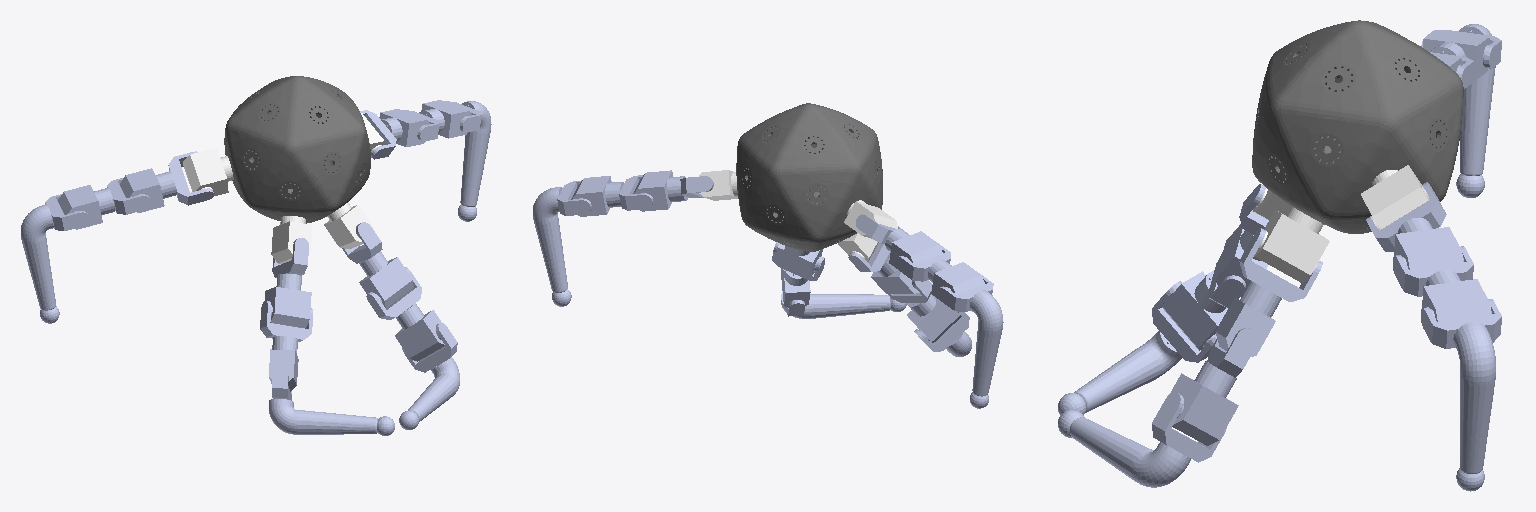
URDF robot description (mod_test):
<?xml version="1.0" encoding="utf-8"?>
<robot
  name="mod_test">
  <link
    name="base_link">
    <inertial>
      <origin
        xyz="-1.5226495220944E-06 1.5812928362389E-07 -5.05247252856584E-07"
        rpy="0 0 0" />
      <mass
        value="0.422806992949252" />
      <inertia
        ixx="0.00237499139253511"
        ixy="1.5717831530364E-08"
        ixz="1.49286265366169E-08"
        iyy="0.00237502154661776"
        iyz="-2.02154172619351E-08"
        izz="0.00237502595466009" />
    </inertial>
    <visual>
      <origin
        xyz="0 0 0"
        rpy="0 0 0" />
      <geometry>
        <mesh
          filename="package://meshes/base_link.STL" />
      </geometry>
      <material
        name="">
        <color
          rgba="0.498039215686275 0.498039215686275 0.498039215686275 1" />
      </material>
    </visual>
    <collision>
      <origin
        xyz="0 0 0"
        rpy="0 0 0" />
      <geometry>
        <mesh
          filename="package://meshes/base_link.STL" />
      </geometry>
    </collision>
  </link>
  <link
   name="150">
   <inertial>
      <origin
        xyz="0 0 0.028508"
        rpy="0 0 0" />
      <mass
        value="0.076173" />
      <inertia
        ixx="3.054E-05"
        ixy="-0.000000"
        ixz="-0.000000"
        iyy="2.1077E-05"
        iyz="-0.000000"
        izz="2.1165E-05" />
    </inertial>
    <visual>
      <origin
        xyz="0 0 0"
        rpy="0 0 0" />
      <geometry>
        <mesh
          filename="package://meshes/1.STL" />
      </geometry>
      <material
        name="">
        <color
          rgba="1 1 1 1" />
      </material>
    </visual>
    <collision>
      <origin
        xyz="0 0 0"
        rpy="0 0 0" />
      <geometry>
        <mesh
          filename="package://meshes/1.STL" />
      </geometry>
    </collision>
  </link>
  <joint
    name="body_150"
    type="fixed">
    <origin
        xyz="0.031905 -0.043913 -0.071046"
        rpy="-2.557073 0.308415 -2.943404" />
    <parent
      link="base_link" />
    <child
      link="150" />
    <axis
      xyz="0 0 0" />
  </joint>
  <link
    name="151">
    <inertial>
      <origin
        xyz="0.060018 -1.4108E-06 1.4108E-06"
        rpy="0 0 0" />
    <mass
        value="0.10689" />
      <inertia
        ixx="3.2684e-05"
        ixy="-2.5662e-09"
        ixz="2.5662e-09"
        iyy="8.4132e-05"
        iyz="-2.1275e-13"
        izz="8.4583e-05" />
    </inertial>
    <visual>
      <origin
        xyz="0 0 0"
        rpy="0 0 0" />
      <geometry>
        <mesh
          filename="package://meshes/module3.STL" />
      </geometry>
      <material
        name="">
        <color
          rgba="0.79216 0.81961 0.93333 1" />
      </material>
    </visual>
    <collision>
      <origin
        xyz="0 0 0"
        rpy="0 0 0" />
      <geometry>
        <mesh
          filename="package://meshes/module3.STL" />
      </geometry>
    </collision>
  </link>
  <joint
    name="150_151"
    type="revolute">
    <origin
      xyz="0 0 0.04"
      rpy="-1.558 -1.5708 -0.012835" />
    <parent
      link="150" />
    <child
      link="151" />
    <axis
      xyz="0 0 1" />
    <limit
      lower="-6.28"
      upper="6.28"
      effort="10"
      velocity="100" />
  </joint>
  <link
    name="152">
    <inertial>
      <origin
        xyz="0.060018 -1.4108E-06 1.4108E-06"
        rpy="0 0 0" />
    <mass
        value="0.10689" />
      <inertia
        ixx="3.2684e-05"
        ixy="-2.5662e-09"
        ixz="2.5662e-09"
        iyy="8.6498e-05"
        iyz="4.0975e-06"
        izz="8.2217e-05" />
    </inertial>
    <visual>
      <origin
        xyz="0 0 0"
        rpy="0 0 0" />
      <geometry>
        <mesh
          filename="package://meshes/module2.STL" />
      </geometry>
      <material
        name="">
        <color
          rgba="0.79216 0.81961 0.93333 1" />
      </material>
    </visual>
    <collision>
      <origin
        xyz="0 0 0"
        rpy="0 0 0" />
      <geometry>
        <mesh
          filename="package://meshes/module2.STL" />
      </geometry>
    </collision>
  </link>
  <joint
    name="151_152"
    type="revolute">
    <origin
      xyz="0.0816 0 0"
      rpy="1.570796 0 0" />
    <parent
      link="151" />
    <child
      link="152" />
    <axis
      xyz="0 0 1" />
    <limit
      lower="-6.28"
      upper="6.28"
      effort="10"
      velocity="100" />
  </joint>
  <link
    name="153">
    <inertial>
      <origin
        xyz="0.051733 -0.042281 -1.3878E-17"
        rpy="0 0 0" />
    <mass
        value="0.12059" />
      <inertia
        ixx="0.00025425"
        ixy="4.8319E-05"
        ixz="0"
        iyy="5.0194E-05"
        iyz="-3.3141E-21"
        izz="0.00027482" />
    </inertial>
    <visual>
      <origin
        xyz="0 0 0"
        rpy="0 0 0" />
      <geometry>
        <mesh
          filename="package://meshes/leg.STL" />
      </geometry>
      <material
        name="">
        <color
          rgba="0.79216 0.81961 0.93333 1" />
      </material>
    </visual>
    <collision>
      <origin
        xyz="0 0 0"
        rpy="0 0 0" />
      <geometry>
        <mesh
          filename="package://meshes/leg.STL" />
      </geometry>
    </collision>
  </link>
  <joint
    name="152_153"
    type="revolute">
    <origin
      xyz="0.0816 0 0"
      rpy="1.047198 0 0" />
    <parent
      link="152" />
    <child
      link="153" />
    <axis
      xyz="0 0 1" />
    <limit
      lower="-6.28"
      upper="6.28"
      effort="10"
      velocity="100" />
  </joint>
  <link
   name="110">
   <inertial>
      <origin
        xyz="0 0 0.028508"
        rpy="0 0 0" />
      <mass
        value="0.076173" />
      <inertia
        ixx="3.054E-05"
        ixy="0.000000"
        ixz="0.000000"
        iyy="2.1077E-05"
        iyz="0.000021"
        izz="2.1165E-05" />
    </inertial>
    <visual>
      <origin
        xyz="0 0 0"
        rpy="0 0 0" />
      <geometry>
        <mesh
          filename="package://meshes/1.STL" />
      </geometry>
      <material
        name="">
        <color
          rgba="1 1 1 1" />
      </material>
    </visual>
    <collision>
      <origin
        xyz="0 0 0"
        rpy="0 0 0" />
      <geometry>
        <mesh
          filename="package://meshes/1.STL" />
      </geometry>
    </collision>
  </link>
  <joint
    name="body_110"
    type="fixed">
    <origin
        xyz="0.083523 0.027138 -0.016769"
        rpy="-1.935587 -1.017234 -0.942540" />
    <parent
      link="base_link" />
    <child
      link="110" />
    <axis
      xyz="0 0 0" />
  </joint>
  <link
    name="111">
    <inertial>
      <origin
        xyz="0.060018 -1.4108E-06 1.4108E-06"
        rpy="0 0 0" />
    <mass
        value="0.10689" />
      <inertia
        ixx="3.2684e-05"
        ixy="-2.5662e-09"
        ixz="2.5662e-09"
        iyy="9.1229e-05"
        iyz="-4.0975e-06"
        izz="7.7485e-05" />
    </inertial>
    <visual>
      <origin
        xyz="0 0 0"
        rpy="0 0 0" />
      <geometry>
        <mesh
          filename="package://meshes/module11.STL" />
      </geometry>
      <material
        name="">
        <color
          rgba="0.79216 0.81961 0.93333 1" />
      </material>
    </visual>
    <collision>
      <origin
        xyz="0 0 0"
        rpy="0 0 0" />
      <geometry>
        <mesh
          filename="package://meshes/module11.STL" />
      </geometry>
    </collision>
  </link>
  <joint
    name="110_111"
    type="revolute">
    <origin
      xyz="0 0 0.04"
      rpy="-1.558 -1.5708 -0.012835" />
    <parent
      link="110" />
    <child
      link="111" />
    <axis
      xyz="0 0 1" />
    <limit
      lower="-6.28"
      upper="6.28"
      effort="10"
      velocity="100" />
  </joint>
  <link
    name="112">
    <inertial>
      <origin
        xyz="0.060018 -1.4108E-06 1.4108E-06"
        rpy="0 0 0" />
    <mass
        value="0.10689" />
      <inertia
        ixx="3.2684e-05"
        ixy="-2.5662e-09"
        ixz="2.5662e-09"
        iyy="9.3595e-05"
        iyz="-2.1275e-13"
        izz="7.512e-05" />
    </inertial>
    <visual>
      <origin
        xyz="0 0 0"
        rpy="0 0 0" />
      <geometry>
        <mesh
          filename="package://meshes/module0.STL" />
      </geometry>
      <material
        name="">
        <color
          rgba="0.79216 0.81961 0.93333 1" />
      </material>
    </visual>
    <collision>
      <origin
        xyz="0 0 0"
        rpy="0 0 0" />
      <geometry>
        <mesh
          filename="package://meshes/module0.STL" />
      </geometry>
    </collision>
  </link>
  <joint
    name="111_112"
    type="revolute">
    <origin
      xyz="0.0816 0 0"
      rpy="5.759587 0 0" />
    <parent
      link="111" />
    <child
      link="112" />
    <axis
      xyz="0 0 1" />
    <limit
      lower="-6.28"
      upper="6.28"
      effort="10"
      velocity="100" />
  </joint>
  <link
    name="113">
    <inertial>
      <origin
        xyz="0.051733 -0.042281 -1.3878E-17"
        rpy="0 0 0" />
    <mass
        value="0.12059" />
      <inertia
        ixx="0.00025425"
        ixy="4.8319E-05"
        ixz="0"
        iyy="5.0194E-05"
        iyz="-3.3141E-21"
        izz="0.00027482" />
    </inertial>
    <visual>
      <origin
        xyz="0 0 0"
        rpy="0 0 0" />
      <geometry>
        <mesh
          filename="package://meshes/leg.STL" />
      </geometry>
      <material
        name="">
        <color
          rgba="0.79216 0.81961 0.93333 1" />
      </material>
    </visual>
    <collision>
      <origin
        xyz="0 0 0"
        rpy="0 0 0" />
      <geometry>
        <mesh
          filename="package://meshes/leg.STL" />
      </geometry>
    </collision>
  </link>
  <joint
    name="112_113"
    type="revolute">
    <origin
      xyz="0.0816 0 0"
      rpy="0.000000 0 0" />
    <parent
      link="112" />
    <child
      link="113" />
    <axis
      xyz="0 0 1" />
    <limit
      lower="-6.28"
      upper="6.28"
      effort="10"
      velocity="100" />
  </joint>
  <link
   name="130">
   <inertial>
      <origin
        xyz="0 0 0.028508"
        rpy="0 0 0" />
      <mass
        value="0.076173" />
      <inertia
        ixx="3.054E-05"
        ixy="0.000000"
        ixz="-0.000000"
        iyy="2.1077E-05"
        iyz="-0.000000"
        izz="2.1165E-05" />
    </inertial>
    <visual>
      <origin
        xyz="0 0 0"
        rpy="0 0 0" />
      <geometry>
        <mesh
          filename="package://meshes/1.STL" />
      </geometry>
      <material
        name="">
        <color
          rgba="1 1 1 1" />
      </material>
    </visual>
    <collision>
      <origin
        xyz="0 0 0"
        rpy="0 0 0" />
      <geometry>
        <mesh
          filename="package://meshes/1.STL" />
      </geometry>
    </collision>
  </link>
  <joint
    name="body_130"
    type="fixed">
    <origin
        xyz="-0.083523 0.027138 -0.016769"
        rpy="1.935587 -1.017234 -2.199053" />
    <parent
      link="base_link" />
    <child
      link="130" />
    <axis
      xyz="0 0 0" />
  </joint>
  <link
    name="131">
    <inertial>
      <origin
        xyz="0.060018 -1.4108E-06 1.4108E-06"
        rpy="0 0 0" />
    <mass
        value="0.10689" />
      <inertia
        ixx="3.2684e-05"
        ixy="-2.5662e-09"
        ixz="2.5662e-09"
        iyy="9.1229e-05"
        iyz="4.0975e-06"
        izz="7.7485e-05" />
    </inertial>
    <visual>
      <origin
        xyz="0 0 0"
        rpy="0 0 0" />
      <geometry>
        <mesh
          filename="package://meshes/module1.STL" />
      </geometry>
      <material
        name="">
        <color
          rgba="0.79216 0.81961 0.93333 1" />
      </material>
    </visual>
    <collision>
      <origin
        xyz="0 0 0"
        rpy="0 0 0" />
      <geometry>
        <mesh
          filename="package://meshes/module1.STL" />
      </geometry>
    </collision>
  </link>
  <joint
    name="130_131"
    type="revolute">
    <origin
      xyz="0 0 0.04"
      rpy="-1.558 -1.5708 -0.012835" />
    <parent
      link="130" />
    <child
      link="131" />
    <axis
      xyz="0 0 1" />
    <limit
      lower="-6.28"
      upper="6.28"
      effort="10"
      velocity="100" />
  </joint>
  <link
    name="132">
    <inertial>
      <origin
        xyz="0.060018 -1.4108E-06 1.4108E-06"
        rpy="0 0 0" />
    <mass
        value="0.10689" />
      <inertia
        ixx="3.2684e-05"
        ixy="-2.5662e-09"
        ixz="2.5662e-09"
        iyy="9.3595e-05"
        iyz="-2.1275e-13"
        izz="7.512e-05" />
    </inertial>
    <visual>
      <origin
        xyz="0 0 0"
        rpy="0 0 0" />
      <geometry>
        <mesh
          filename="package://meshes/module0.STL" />
      </geometry>
      <material
        name="">
        <color
          rgba="0.79216 0.81961 0.93333 1" />
      </material>
    </visual>
    <collision>
      <origin
        xyz="0 0 0"
        rpy="0 0 0" />
      <geometry>
        <mesh
          filename="package://meshes/module0.STL" />
      </geometry>
    </collision>
  </link>
  <joint
    name="131_132"
    type="revolute">
    <origin
      xyz="0.0816 0 0"
      rpy="0.523599 0 0" />
    <parent
      link="131" />
    <child
      link="132" />
    <axis
      xyz="0 0 1" />
    <limit
      lower="-6.28"
      upper="6.28"
      effort="10"
      velocity="100" />
  </joint>
  <link
    name="133">
    <inertial>
      <origin
        xyz="0.051733 -0.042281 -1.3878E-17"
        rpy="0 0 0" />
    <mass
        value="0.12059" />
      <inertia
        ixx="0.00025425"
        ixy="4.8319E-05"
        ixz="0"
        iyy="5.0194E-05"
        iyz="-3.3141E-21"
        izz="0.00027482" />
    </inertial>
    <visual>
      <origin
        xyz="0 0 0"
        rpy="0 0 0" />
      <geometry>
        <mesh
          filename="package://meshes/leg.STL" />
      </geometry>
      <material
        name="">
        <color
          rgba="0.79216 0.81961 0.93333 1" />
      </material>
    </visual>
    <collision>
      <origin
        xyz="0 0 0"
        rpy="0 0 0" />
      <geometry>
        <mesh
          filename="package://meshes/leg.STL" />
      </geometry>
    </collision>
  </link>
  <joint
    name="132_133"
    type="revolute">
    <origin
      xyz="0.0816 0 0"
      rpy="0.000000 0 0" />
    <parent
      link="132" />
    <child
      link="133" />
    <axis
      xyz="0 0 1" />
    <limit
      lower="-6.28"
      upper="6.28"
      effort="10"
      velocity="100" />
  </joint>
  <link
   name="190">
   <inertial>
      <origin
        xyz="0 0 0.028508"
        rpy="0 0 0" />
      <mass
        value="0.076173" />
      <inertia
        ixx="3.054E-05"
        ixy="0.000000"
        ixz="-0.000000"
        iyy="2.1077E-05"
        iyz="-0.000000"
        izz="2.1165E-05" />
    </inertial>
    <visual>
      <origin
        xyz="0 0 0"
        rpy="0 0 0" />
      <geometry>
        <mesh
          filename="package://meshes/1.STL" />
      </geometry>
      <material
        name="">
        <color
          rgba="1 1 1 1" />
      </material>
    </visual>
    <collision>
      <origin
        xyz="0 0 0"
        rpy="0 0 0" />
      <geometry>
        <mesh
          filename="package://meshes/1.STL" />
      </geometry>
    </collision>
  </link>
  <joint
    name="body_190"
    type="fixed">
    <origin
        xyz="-0.031905 -0.043913 -0.071046"
        rpy="2.557073 0.308415 -0.198189" />
    <parent
      link="base_link" />
    <child
      link="190" />
    <axis
      xyz="0 0 0" />
  </joint>
  <link
    name="191">
    <inertial>
      <origin
        xyz="0.060018 -1.4108E-06 1.4108E-06"
        rpy="0 0 0" />
    <mass
        value="0.10689" />
      <inertia
        ixx="3.2684e-05"
        ixy="-2.5662e-09"
        ixz="2.5662e-09"
        iyy="8.4132e-05"
        iyz="-2.1275e-13"
        izz="8.4583e-05" />
    </inertial>
    <visual>
      <origin
        xyz="0 0 0"
        rpy="0 0 0" />
      <geometry>
        <mesh
          filename="package://meshes/module9.STL" />
      </geometry>
      <material
        name="">
        <color
          rgba="0.79216 0.81961 0.93333 1" />
      </material>
    </visual>
    <collision>
      <origin
        xyz="0 0 0"
        rpy="0 0 0" />
      <geometry>
        <mesh
          filename="package://meshes/module9.STL" />
      </geometry>
    </collision>
  </link>
  <joint
    name="190_191"
    type="revolute">
    <origin
      xyz="0 0 0.04"
      rpy="-1.558 -1.5708 -0.012835" />
    <parent
      link="190" />
    <child
      link="191" />
    <axis
      xyz="0 0 1" />
    <limit
      lower="-6.28"
      upper="6.28"
      effort="10"
      velocity="100" />
  </joint>
  <link
    name="192">
    <inertial>
      <origin
        xyz="0.060018 -1.4108E-06 1.4108E-06"
        rpy="0 0 0" />
    <mass
        value="0.10689" />
      <inertia
        ixx="3.2684e-05"
        ixy="-2.5662e-09"
        ixz="2.5662e-09"
        iyy="8.6498e-05"
        iyz="-4.0975e-06"
        izz="8.2217e-05" />
    </inertial>
    <visual>
      <origin
        xyz="0 0 0"
        rpy="0 0 0" />
      <geometry>
        <mesh
          filename="package://meshes/module10.STL" />
      </geometry>
      <material
        name="">
        <color
          rgba="0.79216 0.81961 0.93333 1" />
      </material>
    </visual>
    <collision>
      <origin
        xyz="0 0 0"
        rpy="0 0 0" />
      <geometry>
        <mesh
          filename="package://meshes/module10.STL" />
      </geometry>
    </collision>
  </link>
  <joint
    name="191_192"
    type="revolute">
    <origin
      xyz="0.0816 0 0"
      rpy="4.712389 0 0" />
    <parent
      link="191" />
    <child
      link="192" />
    <axis
      xyz="0 0 1" />
    <limit
      lower="-6.28"
      upper="6.28"
      effort="10"
      velocity="100" />
  </joint>
  <link
    name="193">
    <inertial>
      <origin
        xyz="0.051733 -0.042281 -1.3878E-17"
        rpy="0 0 0" />
    <mass
        value="0.12059" />
      <inertia
        ixx="0.00025425"
        ixy="4.8319E-05"
        ixz="0"
        iyy="5.0194E-05"
        iyz="-3.3141E-21"
        izz="0.00027482" />
    </inertial>
    <visual>
      <origin
        xyz="0 0 0"
        rpy="0 0 0" />
      <geometry>
        <mesh
          filename="package://meshes/leg.STL" />
      </geometry>
      <material
        name="">
        <color
          rgba="0.79216 0.81961 0.93333 1" />
      </material>
    </visual>
    <collision>
      <origin
        xyz="0 0 0"
        rpy="0 0 0" />
      <geometry>
        <mesh
          filename="package://meshes/leg.STL" />
      </geometry>
    </collision>
  </link>
  <joint
    name="192_193"
    type="revolute">
    <origin
      xyz="0.0816 0 0"
      rpy="5.235988 0 0" />
    <parent
      link="192" />
    <child
      link="193" />
    <axis
      xyz="0 0 1" />
    <limit
      lower="-6.28"
      upper="6.28"
      effort="10"
      velocity="100" />
  </joint>
  <link
    name = "ball_1">
    <inertial>
    <origin
        xyz="0 0 0"
        rpy="0 0 0" />
    <mass
        value="0" />
      <inertia
        ixx="0"
        ixy="0"
        ixz="0"
        iyy="0"
        iyz="0"
        izz="0" />
    </inertial>    <visual>
      <origin
        xyz="0 0 0"
        rpy="0 0 0" />
     <geometry>
        <sphere radius = "0.01"/>
      </geometry>
      <material
        name="green">
        <color
          rgba="0.22 1 0.4 1" />
      </material>
    </visual>
  </link>
  <joint
  name="153_ball1"
  type="fixed">
    <origin
      xyz="0.0612 -0.13431 0"
      rpy="0 0 0" />
    <parent
      link="153" />
    <child
      link="ball_1" />
    <axis
      xyz="0 0 0" />
  </joint>
  <link
    name = "ball_2">
    <inertial>
    <origin
        xyz="0 0 0"
        rpy="0 0 0" />
    <mass
        value="0" />
      <inertia
        ixx="0"
        ixy="0"
        ixz="0"
        iyy="0"
        iyz="0"
        izz="0" />
    </inertial>    <visual>
      <origin
        xyz="0 0 0"
        rpy="0 0 0" />
      <geometry>
        <sphere radius = "0.01"/>
      </geometry>
      <material
        name="blue">
        <color
          rgba="0.16 0.52 0.8 1" />
      </material>
    </visual>
  </link>
  <joint
  name="113_ball2"
  type="fixed">
    <origin
      xyz="0.0612 -0.13431 0"
      rpy="0 0 0" />
    <parent
      link="113" />
    <child
      link="ball_2" />
    <axis
      xyz="0 0 0" />
  </joint>
  <link
    name = "ball_3">
    <inertial>
    <origin
        xyz="0 0 0"
        rpy="0 0 0" />
    <mass
        value="0" />
      <inertia
        ixx="0"
        ixy="0"
        ixz="0"
        iyy="0"
        iyz="0"
        izz="0" />
    </inertial>    <visual>
      <origin
        xyz="0 0 0"
        rpy="0 0 0" />
     <geometry>
        <sphere radius = "0.01"/>
      </geometry>
      <material
        name="blue">
        <color
          rgba="0.16 0.52 0.8 1" />
      </material>
    </visual>
  </link>
  <joint
  name="133_ball3"
  type="fixed">
    <origin
      xyz="0.0612 -0.13431 0"
      rpy="0 0 0" />
    <parent
      link="133" />
    <child
      link="ball_3" />
    <axis
      xyz="0 0 0" />
  </joint>
  <link
    name = "ball_4">
    <inertial>
    <origin
        xyz="0 0 0"
        rpy="0 0 0" />
    <mass
        value="0" />
      <inertia
        ixx="0"
        ixy="0"
        ixz="0"
        iyy="0"
        iyz="0"
        izz="0" />
    </inertial>    <visual>
      <origin
        xyz="0 0 0"
        rpy="0 0 0" />
      <geometry>
        <sphere radius = "0.01"/>
      </geometry>
      <material
        name="yellow">
        <color
          rgba="1 1 0 1" />
      </material>
    </visual>
  </link>
  <joint
  name="193_ball4"
  type="fixed">
    <origin
      xyz="0.0612 -0.13431 0"
      rpy="0 0 0" />
    <parent
      link="193" />
    <child
      link="ball_4" />
    <axis
      xyz="0 0 0" />
  </joint>
</robot>

--- Render facts (derived) ---
The picture shows the robot from 3 angles, left to right: view 1: azimuth 30°, elevation 25°; view 2: azimuth 150°, elevation 25°; view 3: azimuth 270°, elevation 25°; orthographic projection.
Robot: mod_test — 21 links, 20 joints (12 revolute, 8 fixed); root link base_link; default pose: every joint at zero.
Visible links, largest first — view 1: base_link, 193, 133, 152, 153, 151, 191, 113, 131, 132, 192, 111 (+4 smaller); view 2: base_link, 133, 113, 153, 132, 112, 192, 131, 111, 191, 152, 193 (+4 smaller); view 3: base_link, 113, 153, 193, 152, 151, 112, 111, 133, 192, 150, 110 (+3 smaller).
Link boxes in pixels (<box>): base_link: <box>224,76,370,223</box>; 193: <box>269,362,394,435</box>; 133: <box>21,194,88,323</box>; 152: <box>366,267,444,361</box>; 153: <box>399,322,459,429</box>; 151: <box>342,222,413,307</box>; 191: <box>265,238,311,327</box>; 113: <box>445,101,491,221</box>; 131: <box>120,151,213,212</box>; 132: <box>58,178,150,229</box>; 192: <box>260,301,312,391</box>; 111: <box>360,109,429,159</box>; base_link: <box>736,103,882,251</box>; 133: <box>937,275,1003,408</box>; 113: <box>533,180,591,306</box>; 153: <box>781,292,906,318</box>; 132: <box>895,243,984,298</box>; 112: <box>571,175,653,216</box>; 192: <box>888,280,961,342</box>; 131: <box>856,214,942,268</box>; 111: <box>633,170,713,211</box>; 191: <box>848,243,919,293</box>; 152: <box>772,242,824,307</box>; 193: <box>911,309,971,356</box>; base_link: <box>1252,20,1463,233</box>; 113: <box>1421,299,1501,491</box>; 153: <box>1058,392,1226,487</box>; 193: <box>1058,281,1216,415</box>; 152: <box>1169,328,1258,445</box>; 151: <box>1215,228,1322,356</box>; 112: <box>1393,246,1491,321</box>; 111: <box>1366,182,1463,269</box>; 133: <box>1421,24,1501,197</box>; 192: <box>1162,252,1245,350</box>; 150: <box>1254,207,1329,283</box>; 110: <box>1361,165,1429,230</box>.
Bounding box of the posed robot: 0.6865 × 0.3927 × 0.3994 m (x, y, z).
Meshes: 10 distinct files referenced, 17 mesh visuals loaded (10 binary STL).